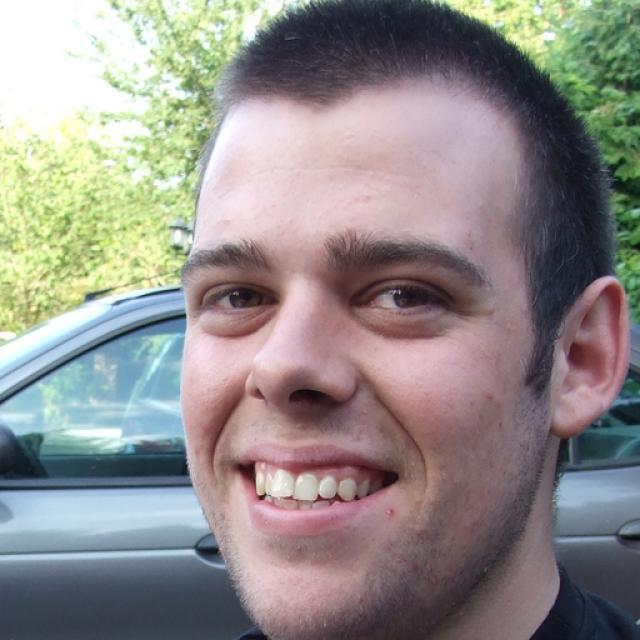happy: (180, 76, 555, 634)
